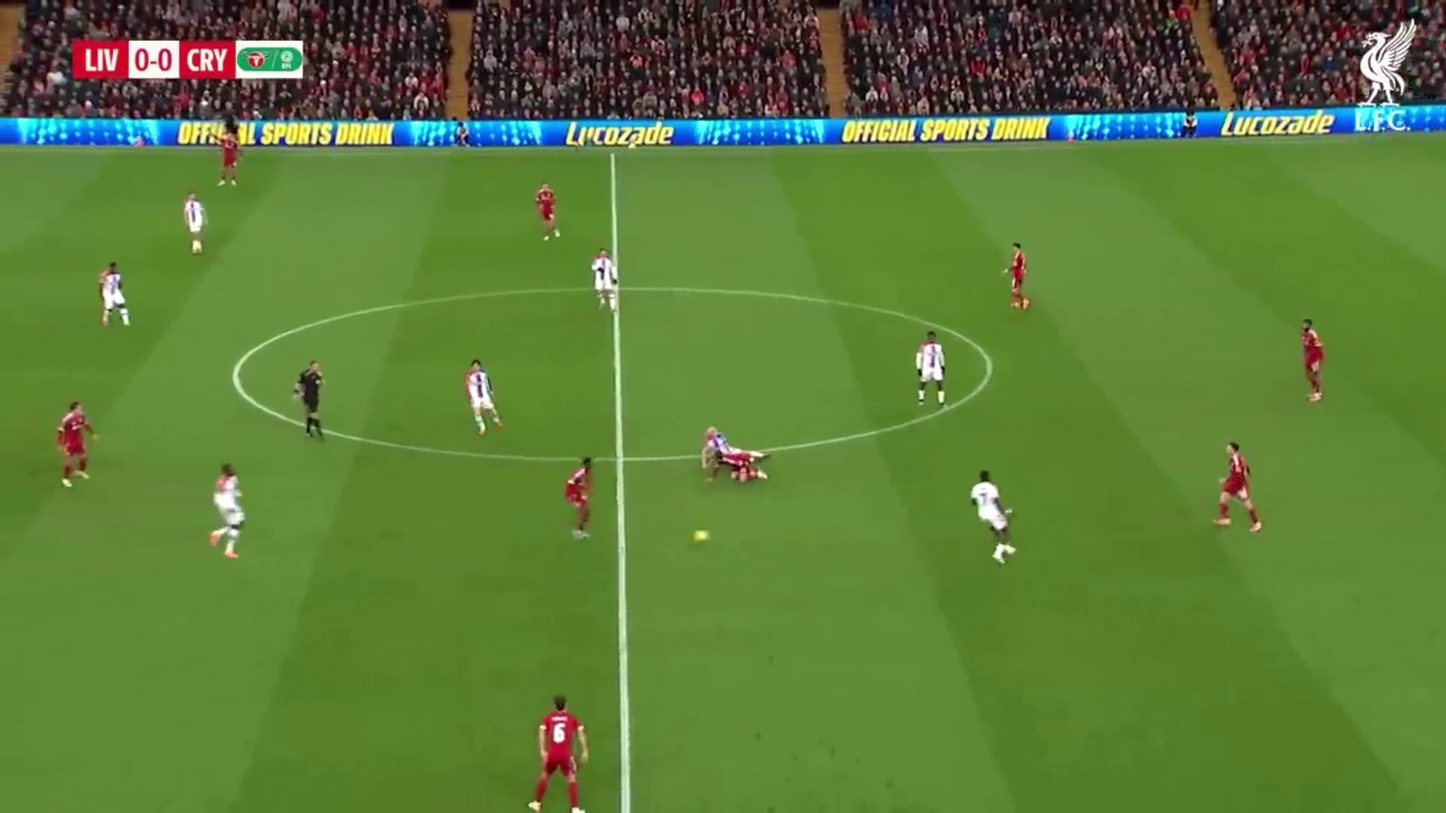player: (529, 694, 589, 813), (967, 468, 1016, 563), (1214, 441, 1264, 533), (700, 424, 768, 485), (210, 463, 246, 561), (55, 399, 94, 488), (464, 355, 503, 436), (564, 457, 596, 537), (295, 360, 325, 443), (1297, 318, 1325, 404), (915, 333, 946, 407), (700, 425, 738, 484), (99, 262, 131, 329), (591, 249, 618, 311), (215, 120, 240, 186), (534, 182, 561, 242), (1006, 244, 1029, 313), (183, 192, 207, 256), (701, 425, 727, 481)
